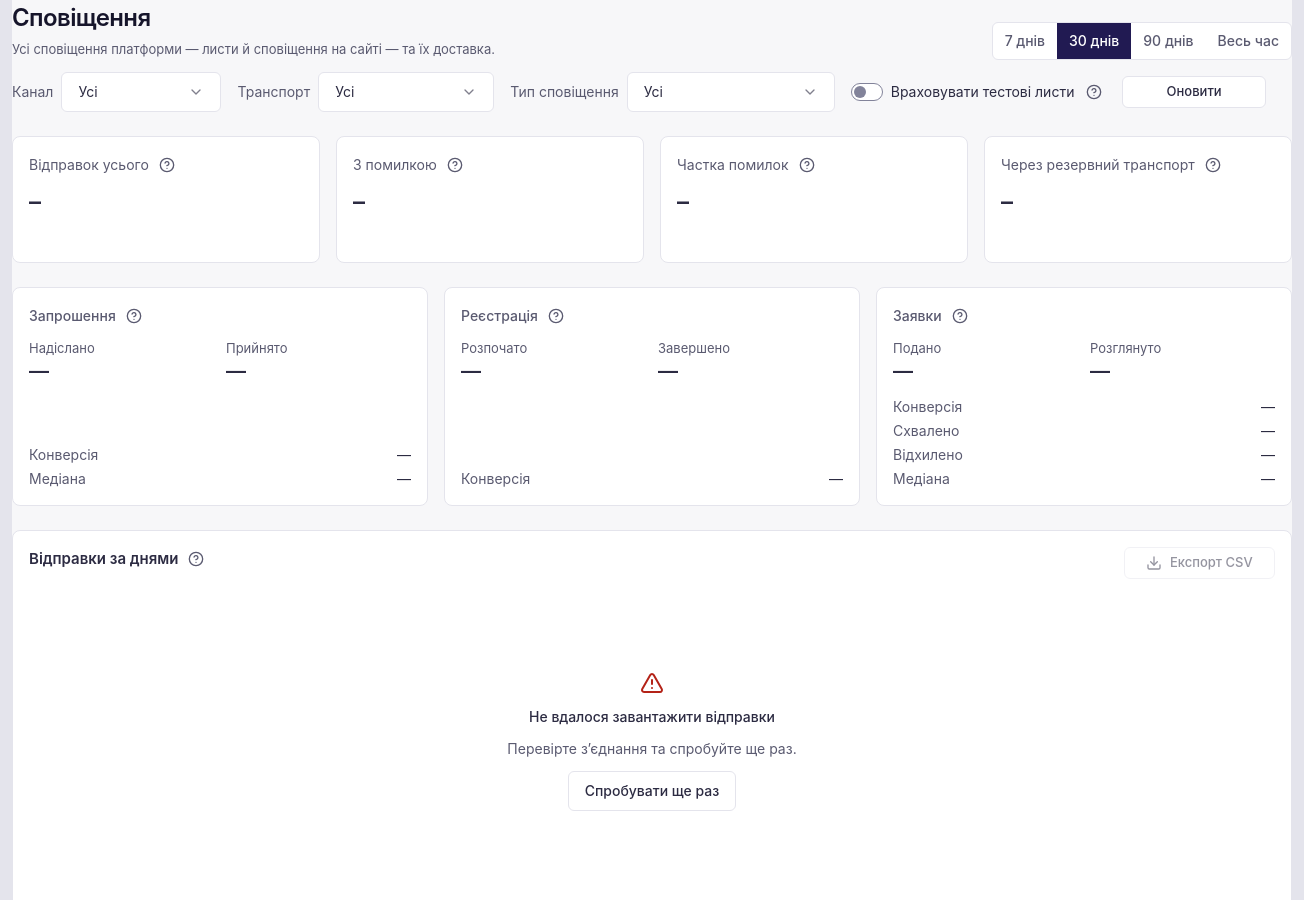
Test: notifications analytics page › shows LoadError with a retry that reloads
The image size is (1304, 900).
Click the button "Спробувати ще раз" at point(652, 792), box x1=568 y1=772 x2=736 y2=812
(page scrolled)
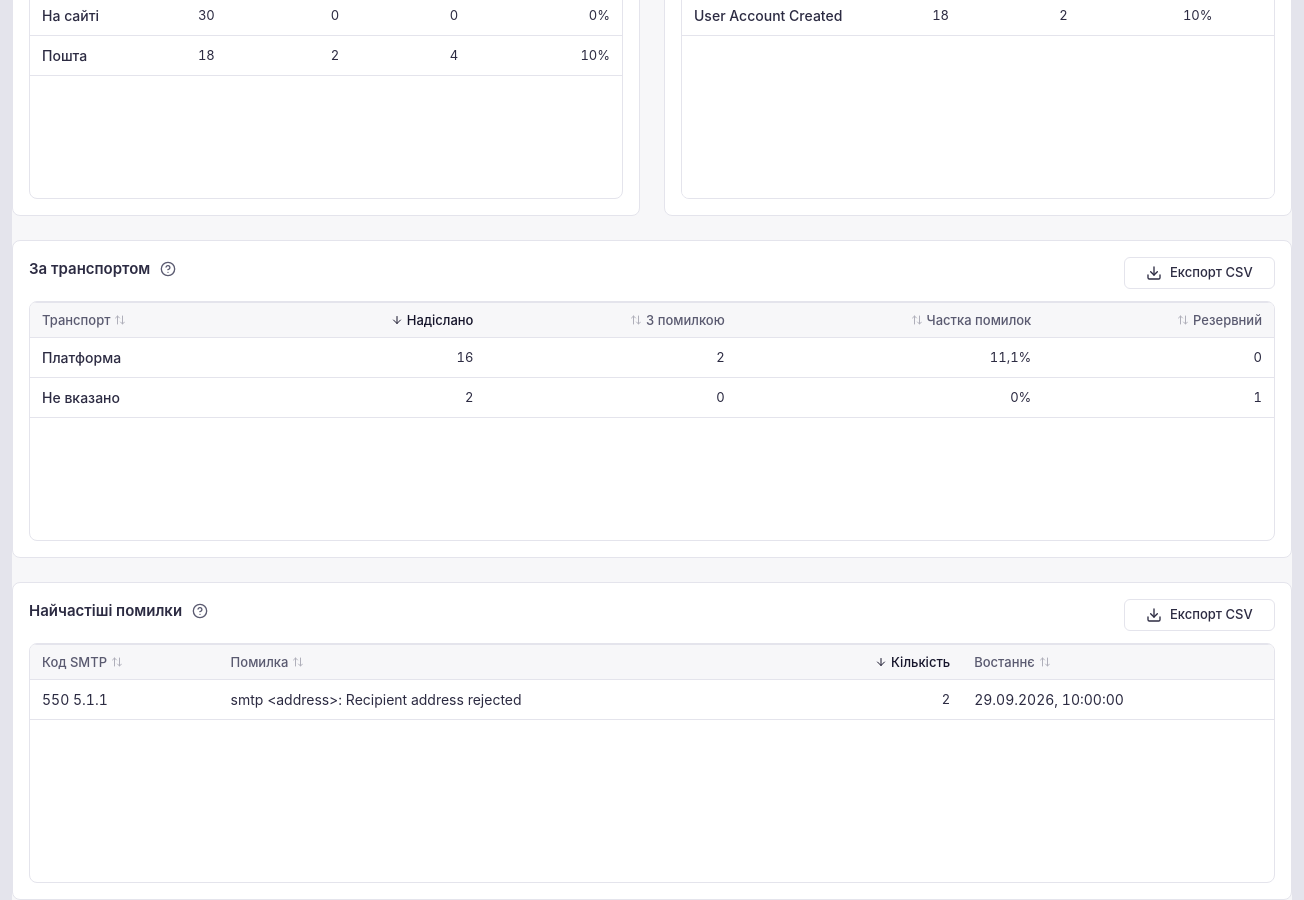
Check: the text "smtp <address>: Recipient address rejected" is shown, box x1=219 y1=680 x2=784 y2=720
